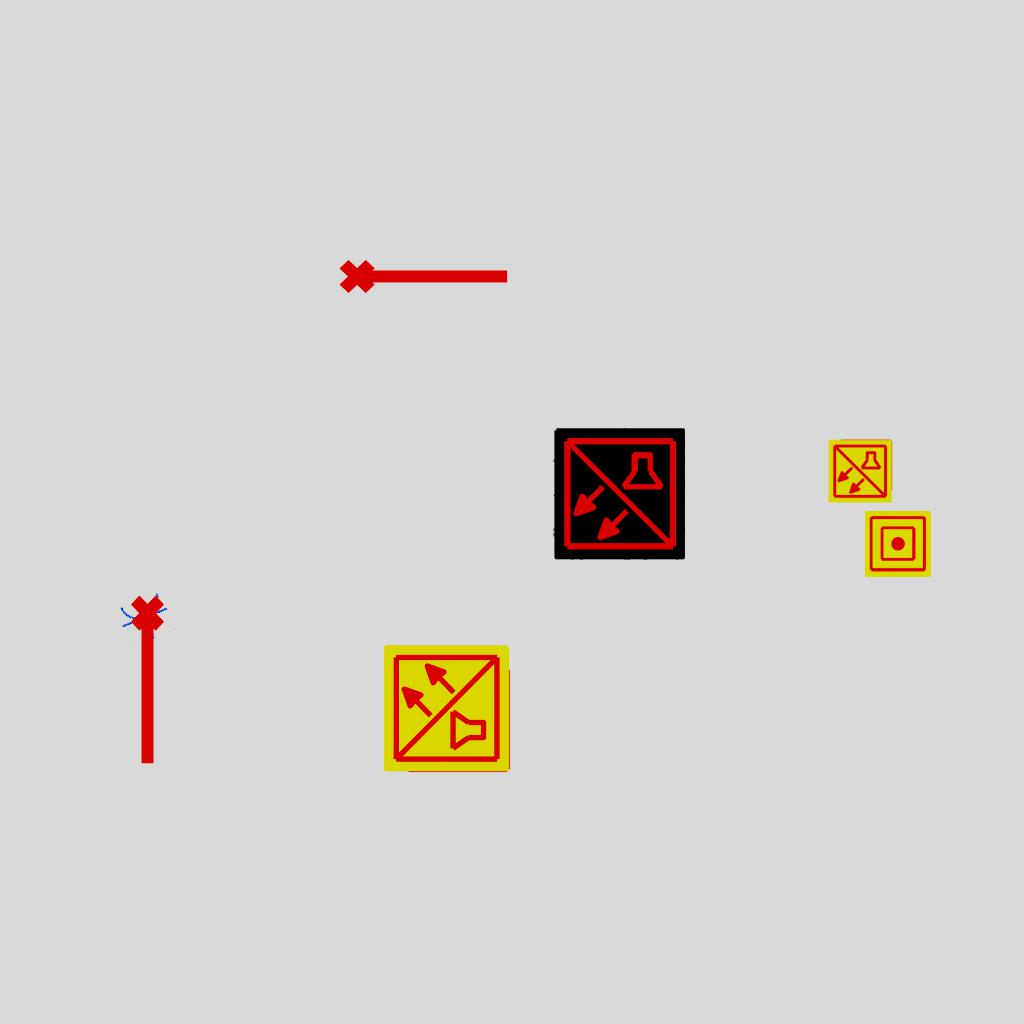ASR_Ansaugoeffnung: (337, 251, 513, 297), (127, 593, 173, 769)
NAM-Nichtautomatischer_Melder: (865, 511, 931, 577)
OKW_Multisensormelder_(Kombination_optischer_Rauch-Kahlenmonoxid_Waerme-Melder): (553, 428, 685, 560), (381, 642, 513, 774), (827, 438, 893, 504)
Schukosteckdose_einfach: (114, 589, 178, 648)
